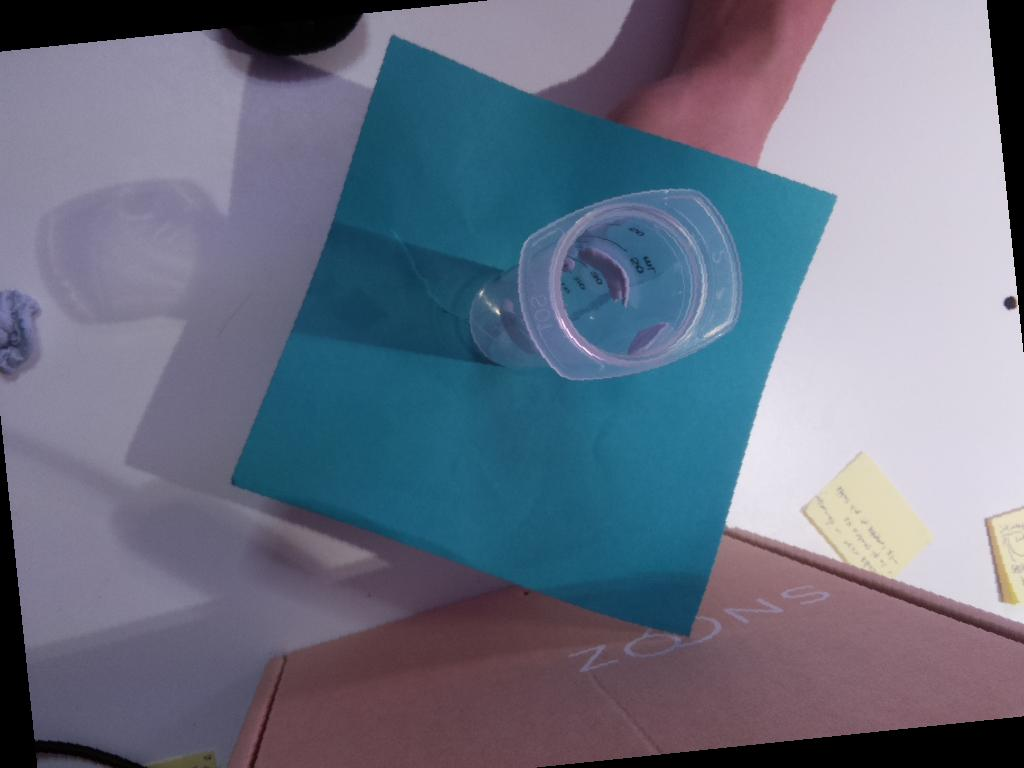dirty: (517, 188, 743, 382)
